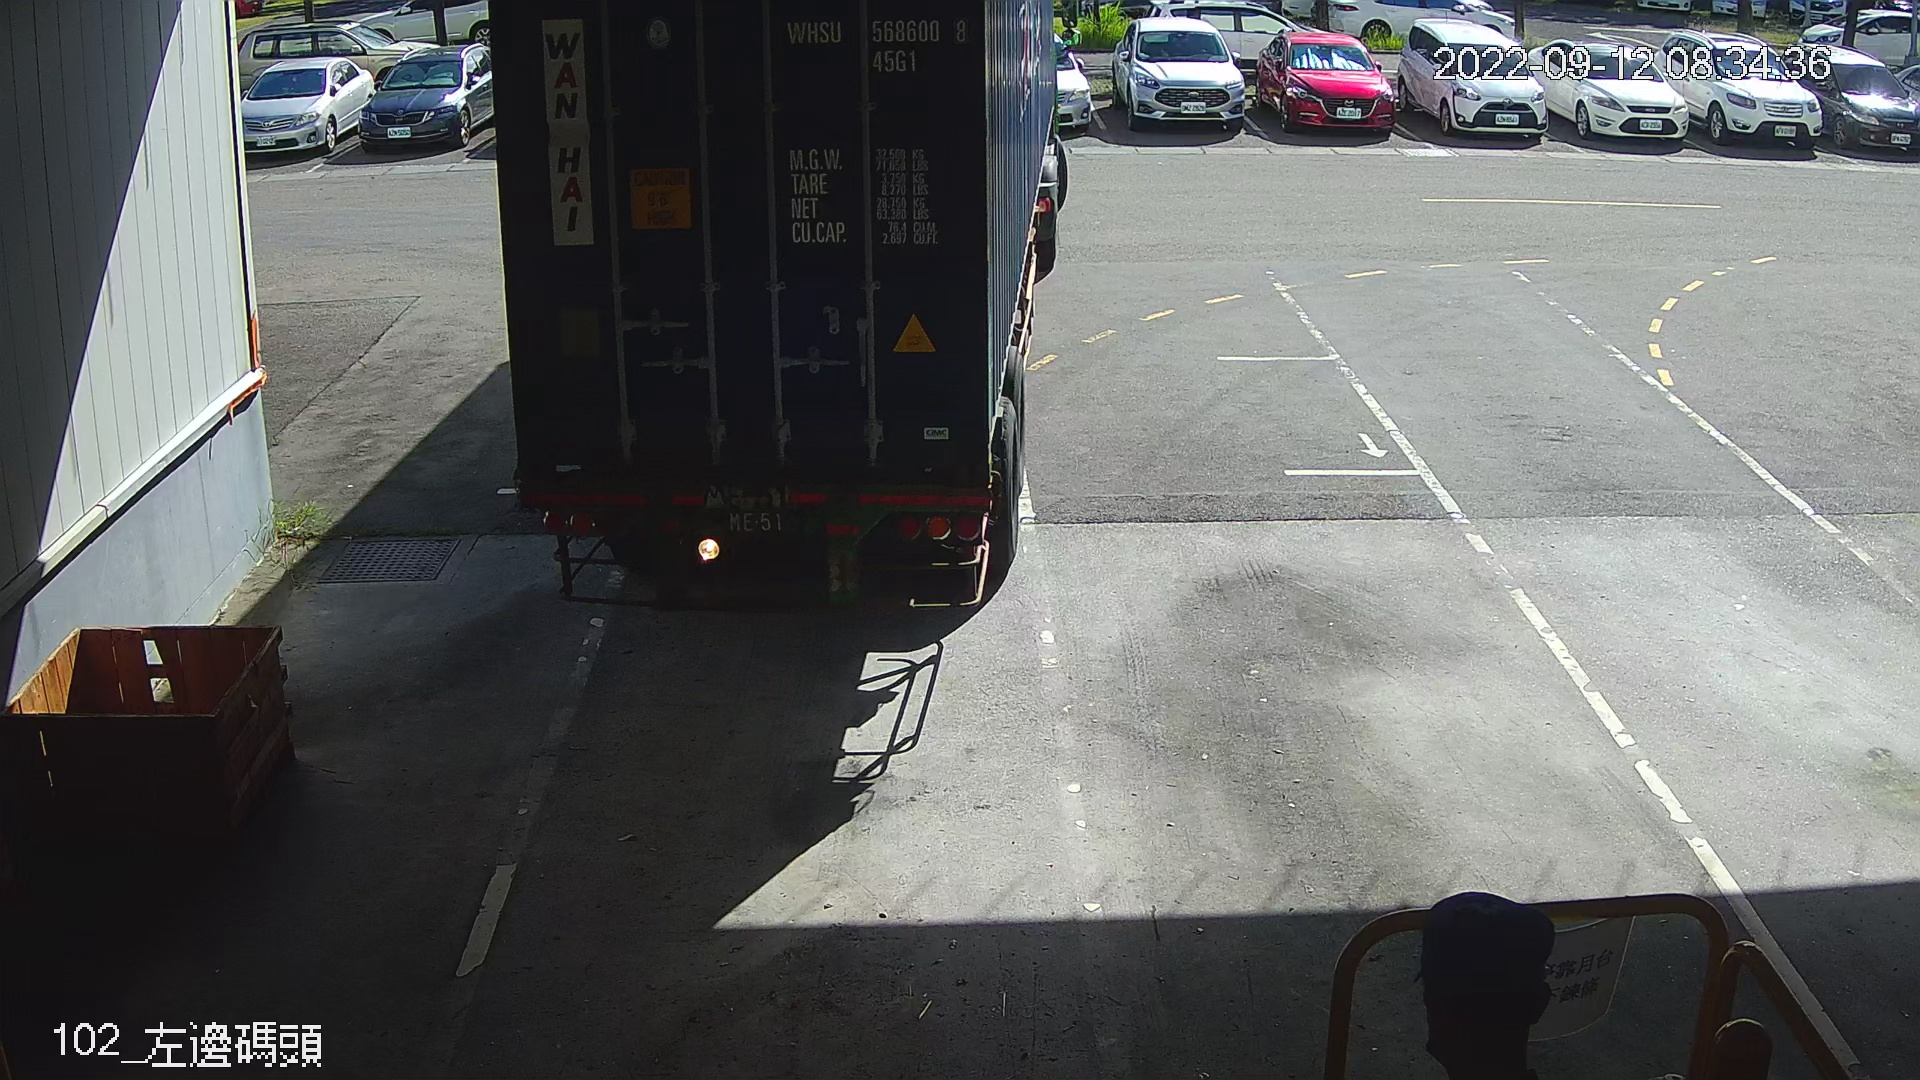container: (775, 5, 978, 80)
